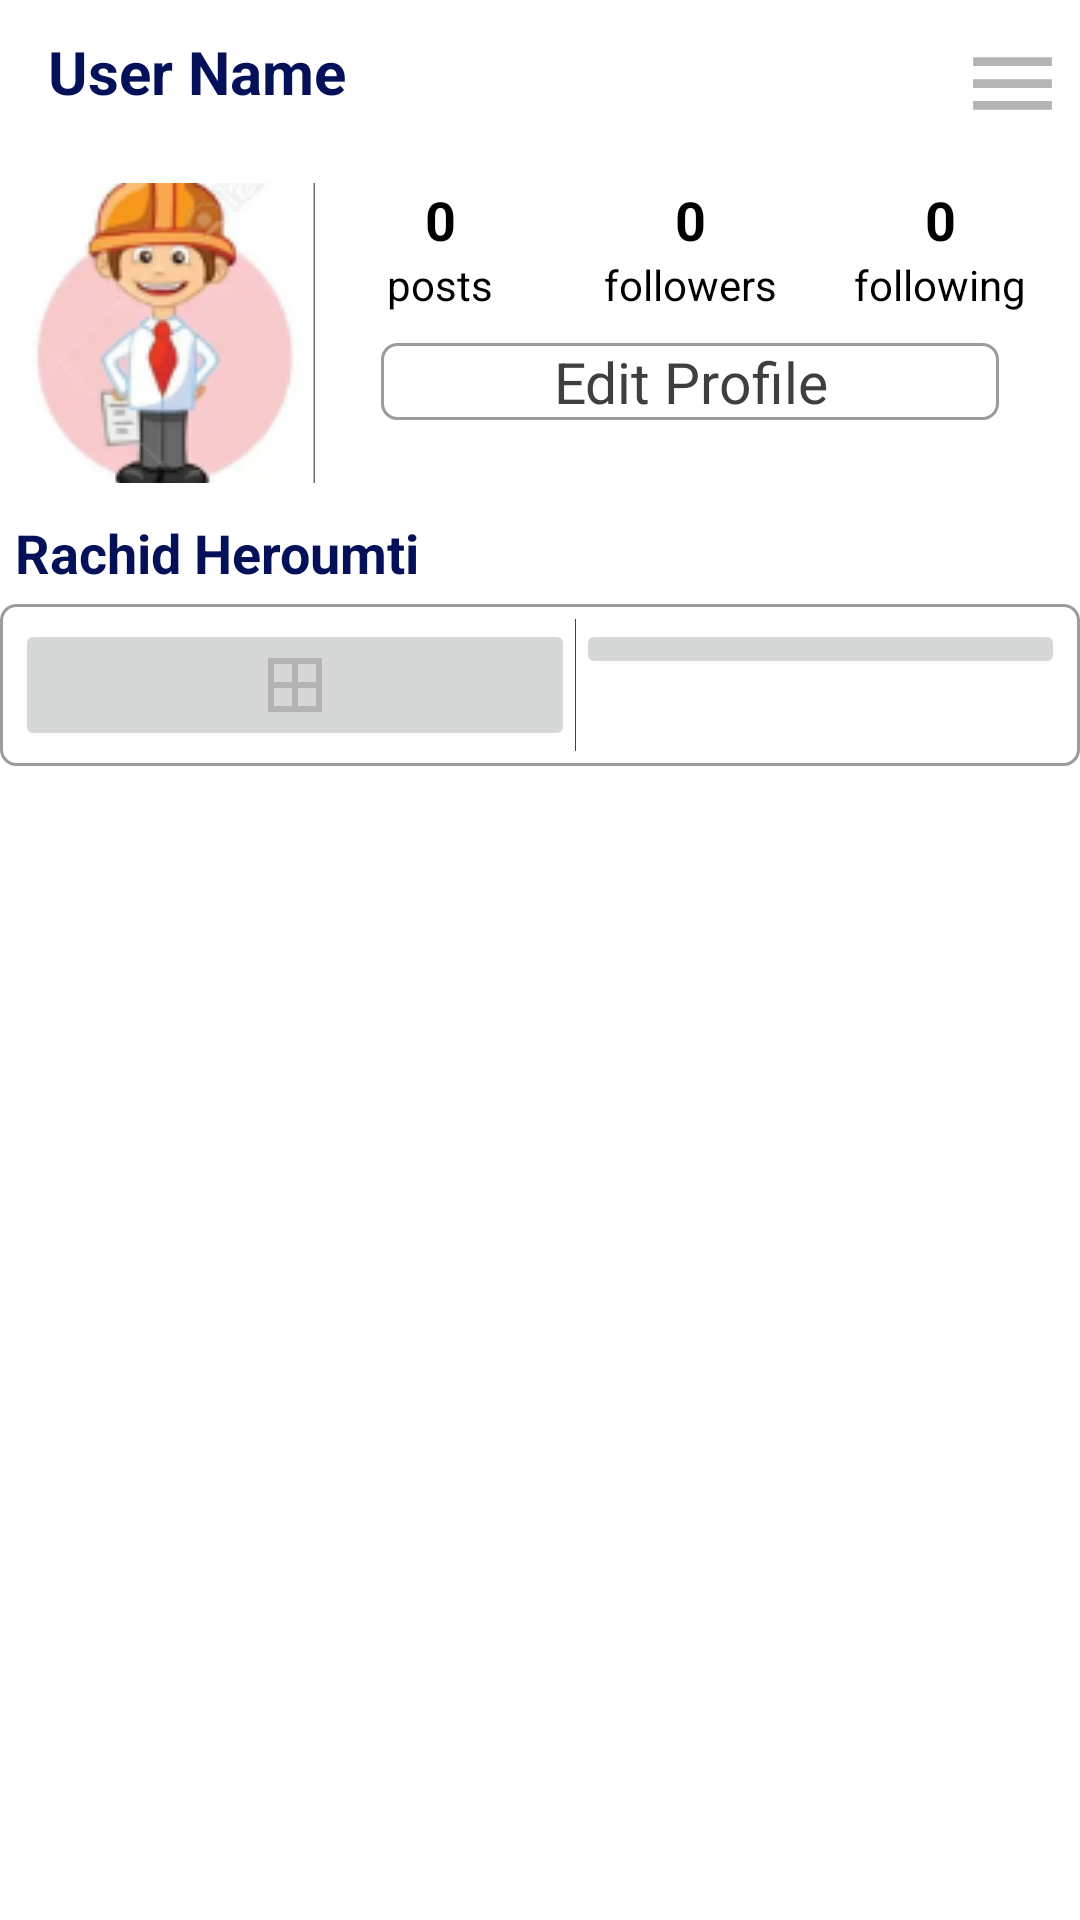

Screen size 1080*1920. Icon name, then its center in pixels as (x,y):
enginner pic: (176,333)
menu: (1012,83)
